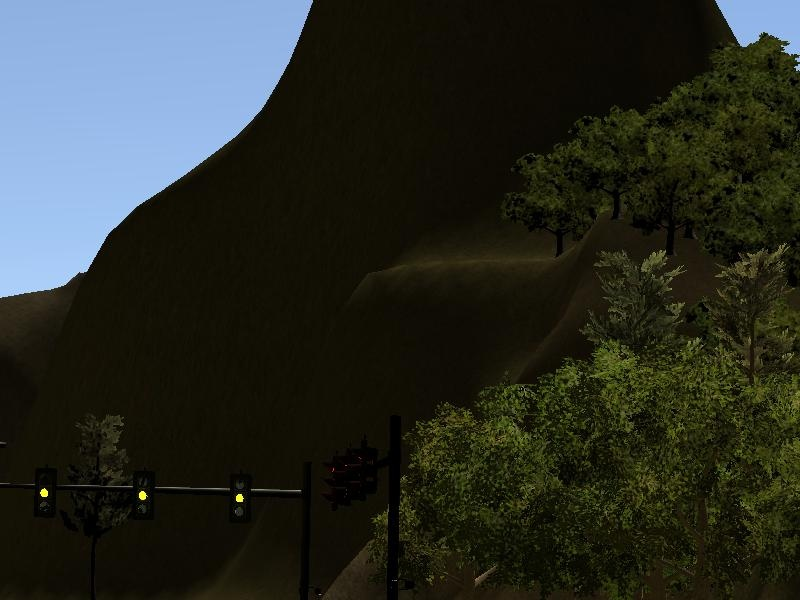YELLOW: (129, 464, 156, 524), (225, 471, 250, 522), (37, 470, 55, 516)
